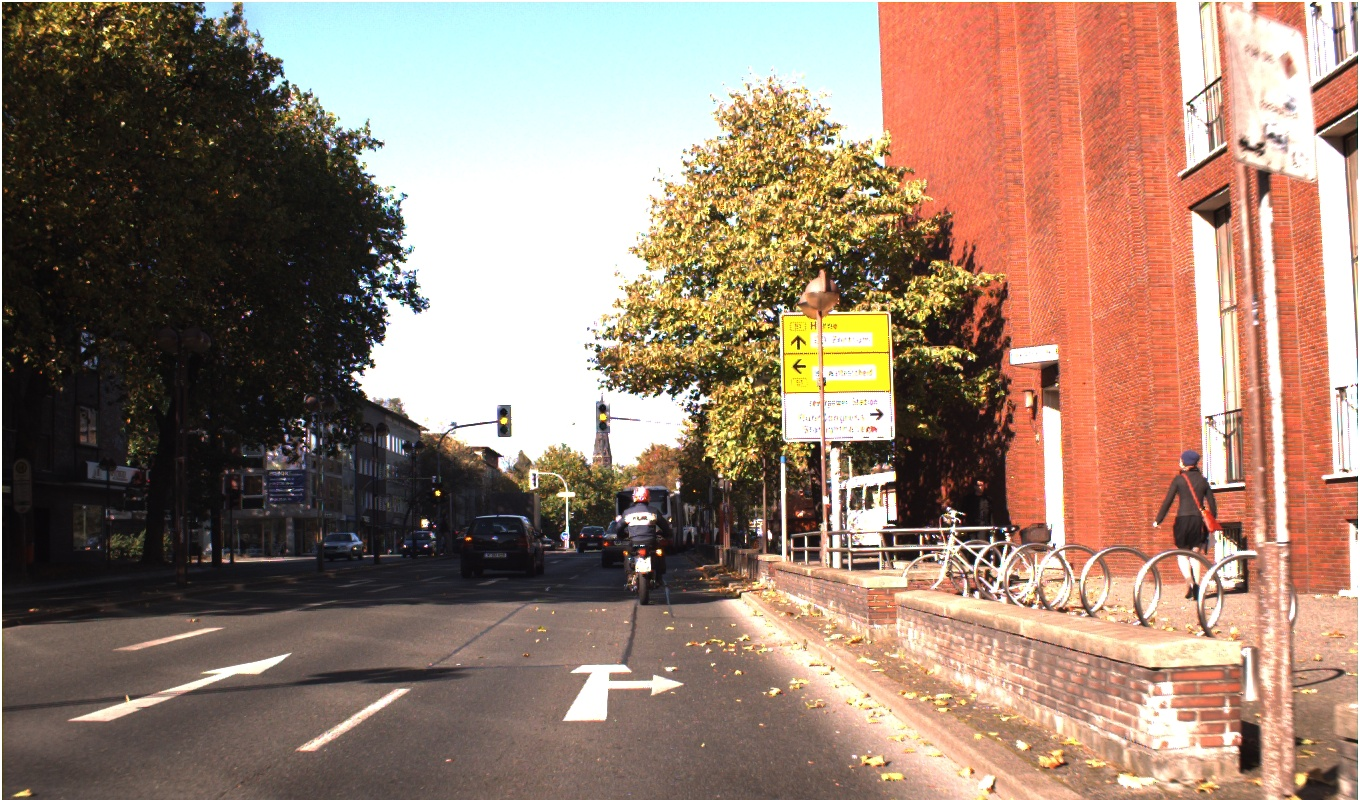Ahead only: (110, 444, 143, 480)
Go straight or right: (1047, 357, 1092, 402)
Priority road: (1036, 296, 1097, 357)
